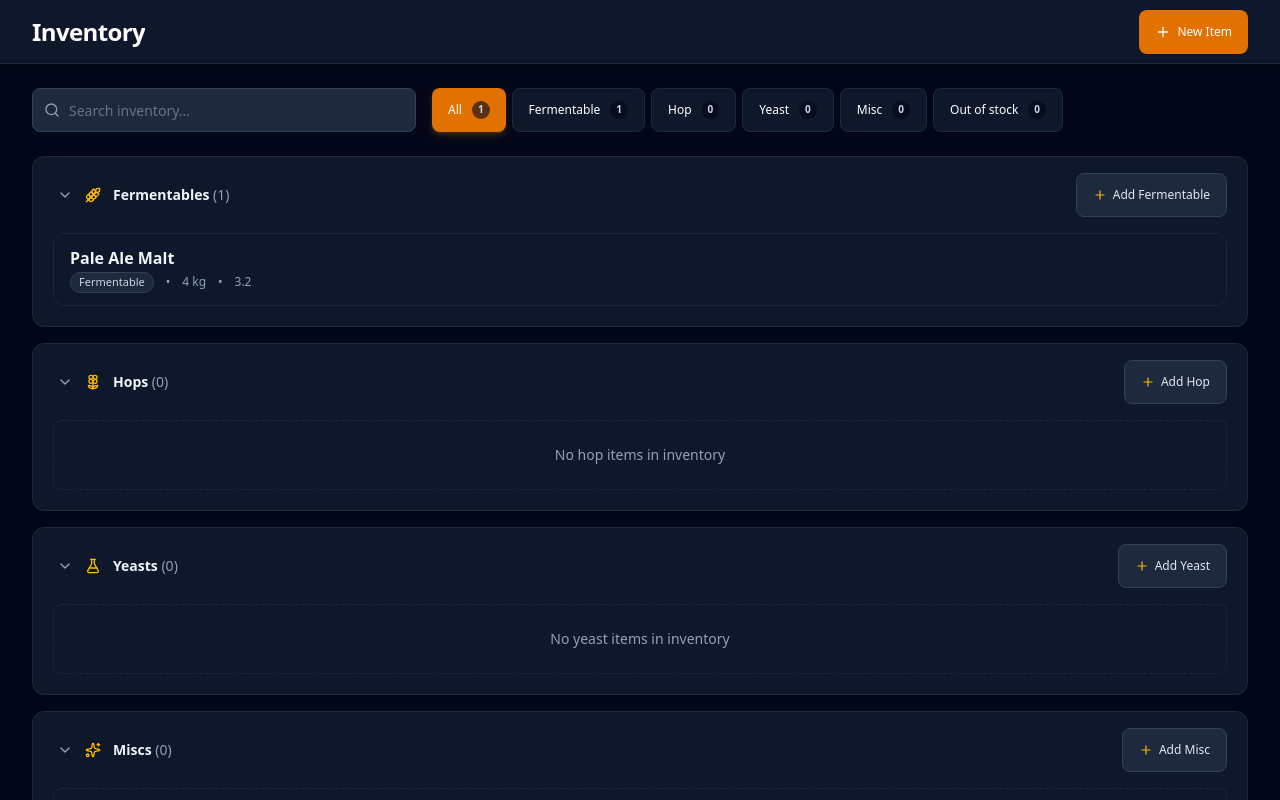
AC-4: section collapse and expand toggles › clicking the section header chevron collapses/expands the item list for that category
Expected: the button with test id "inventory-row-inv-1" is shown, x1=54 y1=234 x2=1226 y2=305
Click the button with test id "inventory-category-toggle-Fermentable" at (161, 194), box x1=53 y1=173 x2=1064 y2=217
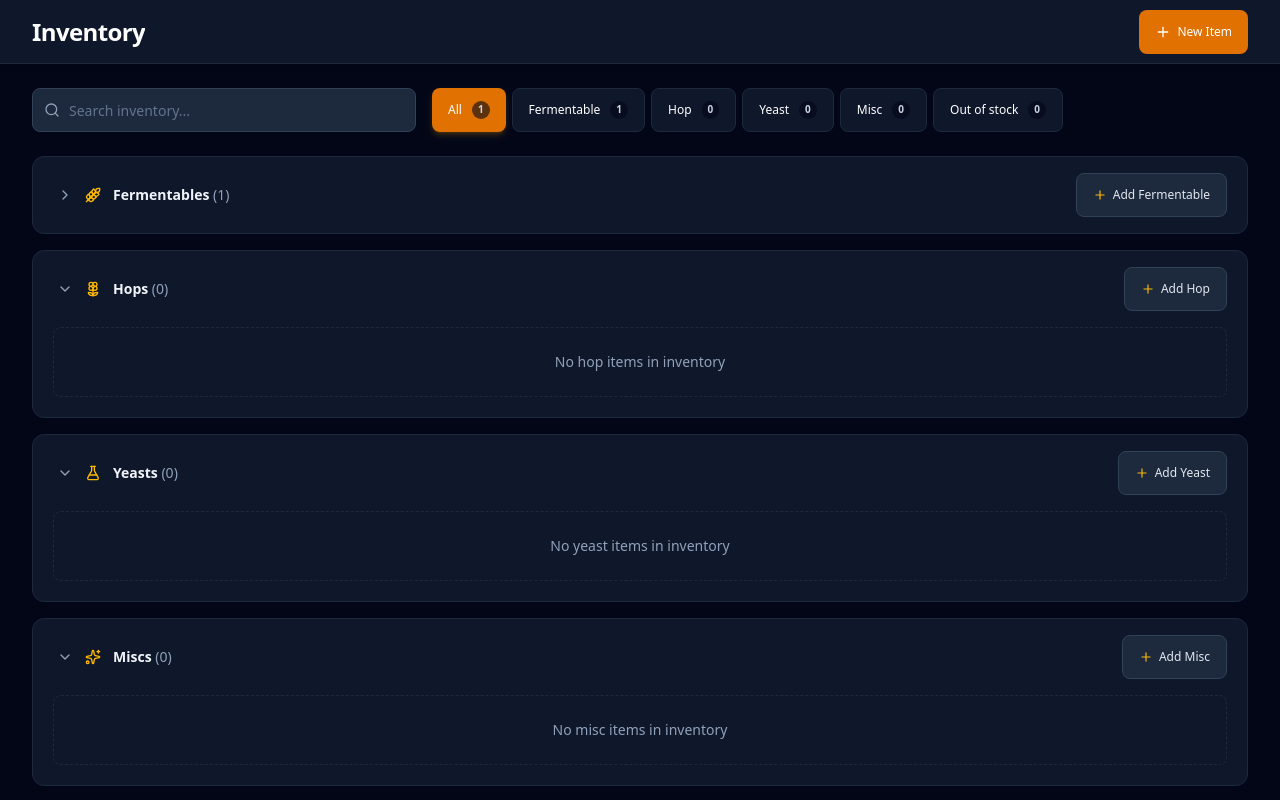
Expected: the button with test id "inventory-row-inv-1" is gone
Click the button with test id "inventory-category-toggle-Fermentable" at (161, 194), box x1=53 y1=173 x2=1064 y2=217
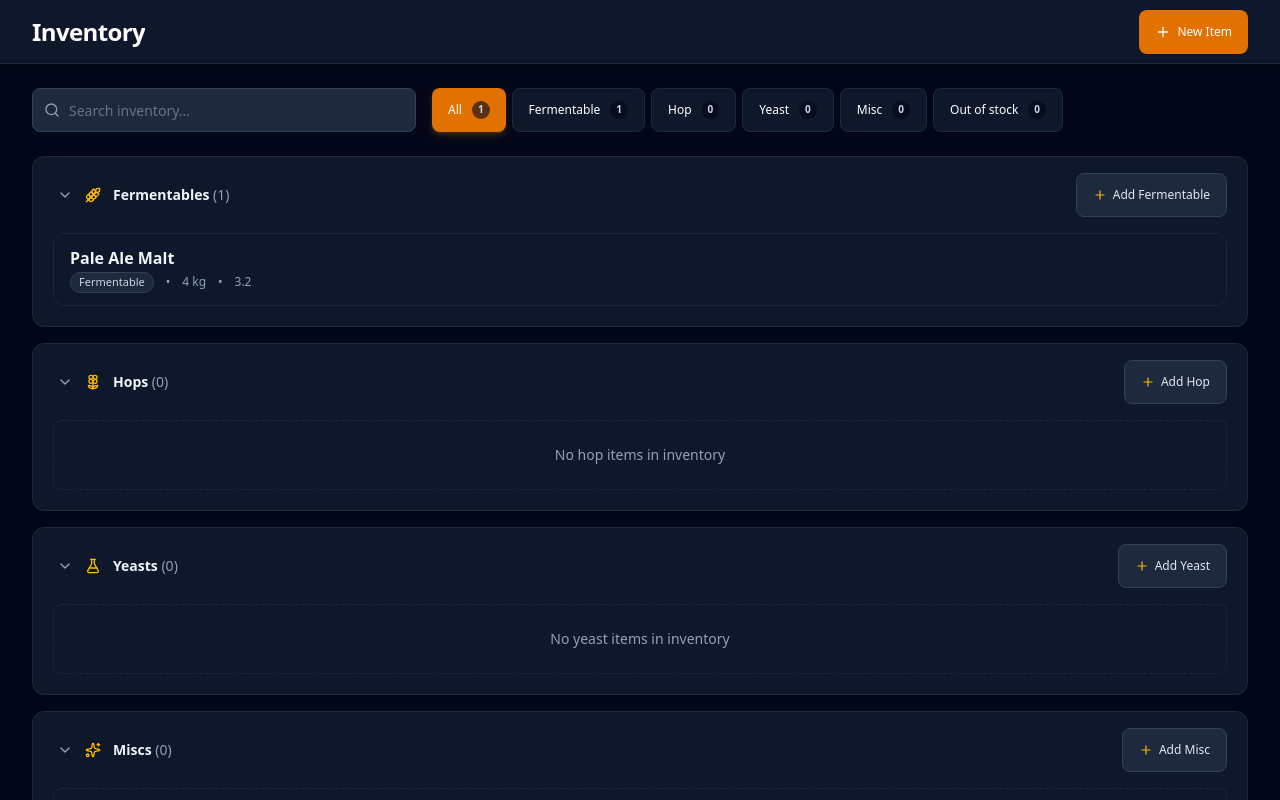
Expected: the button with test id "inventory-row-inv-1" is shown, x1=54 y1=234 x2=1226 y2=305
